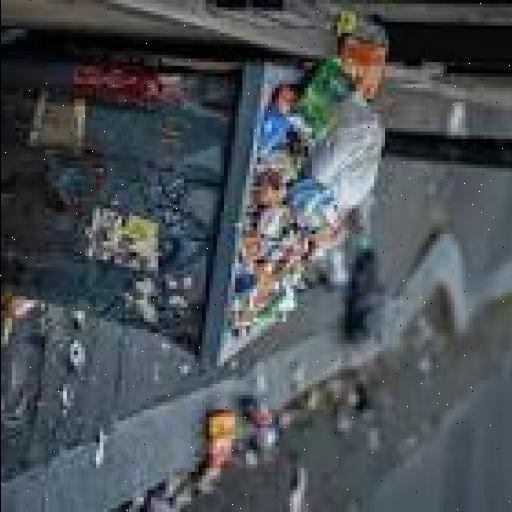poubelle_pleine: (0, 52, 417, 388)
